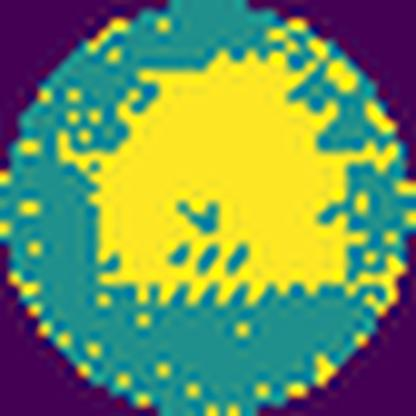Center: (100, 55, 346, 301)
